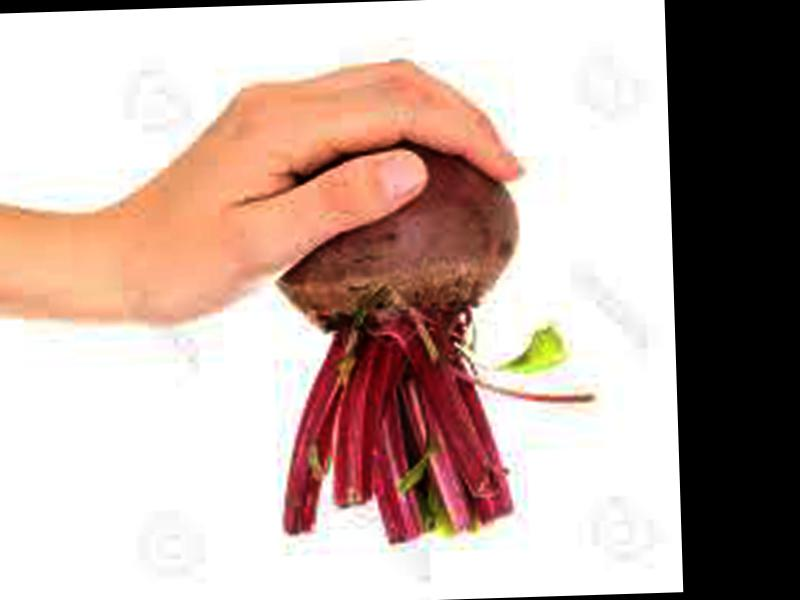Beet: (274, 135, 601, 546)
